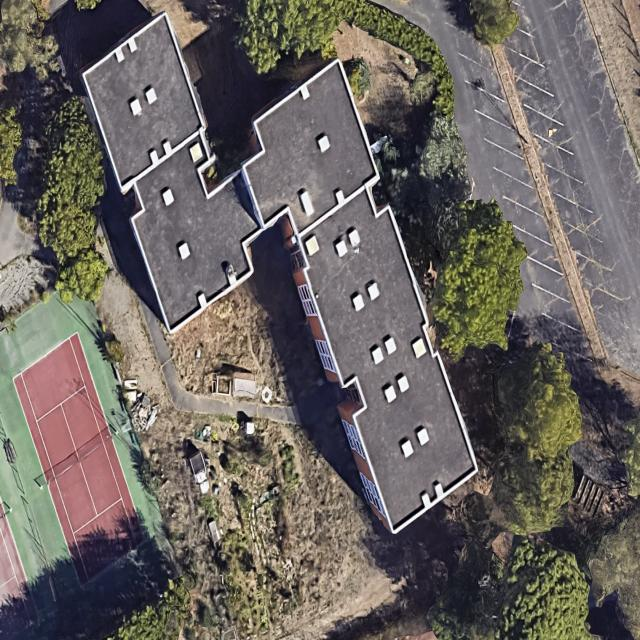immeuble: (272, 180, 490, 538), (212, 57, 407, 245), (105, 132, 285, 332), (71, 11, 214, 187)
